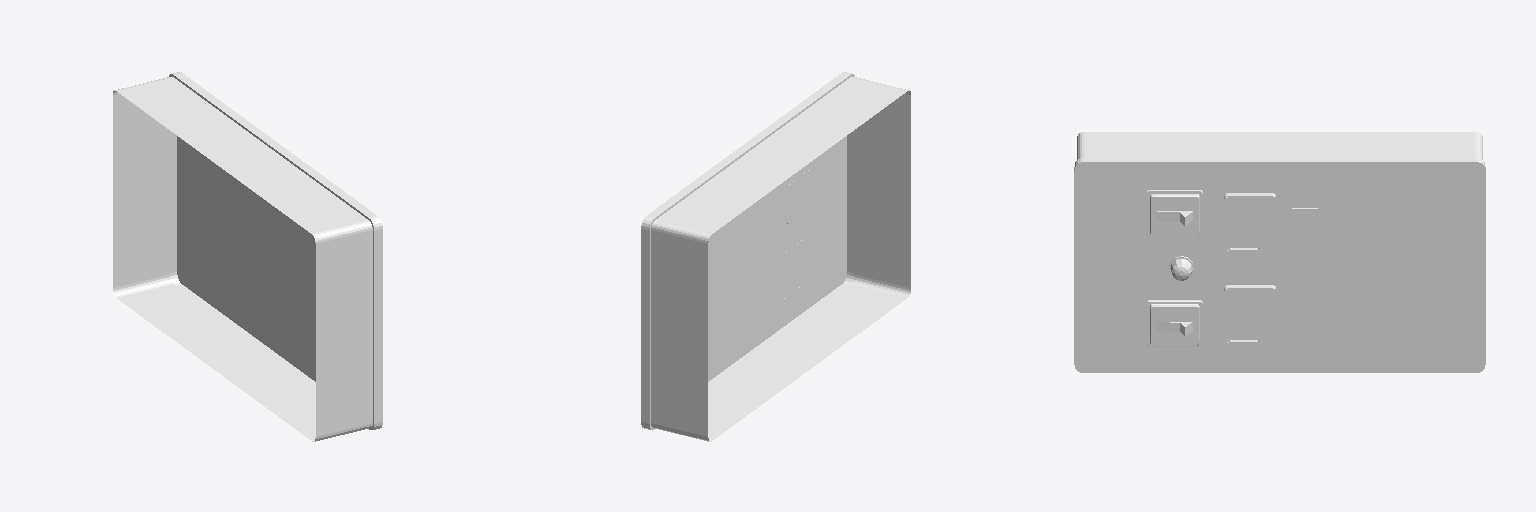
The model's file is electricalboxB.obj.
3 renders of one model, left to right at view 1: azimuth 30°, elevation 25°; view 2: azimuth 150°, elevation 25°; view 3: azimuth 270°, elevation 25°, orthographic.
Visible parts, largest first — view 1: electricalboxB; view 2: electricalboxB; view 3: electricalboxB.
Part boxes in pixels (x1,y1,x2,y2): electricalboxB: (113, 72, 382, 441); electricalboxB: (641, 72, 910, 441); electricalboxB: (1074, 132, 1485, 372).
Size of the model in its own units: 19.07 by 46 by 81.